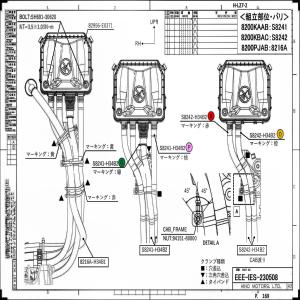PartNumber: (92, 159, 119, 167), (159, 144, 186, 152), (250, 131, 276, 139), (181, 113, 207, 120), (142, 246, 168, 253), (80, 258, 106, 265), (88, 22, 113, 29), (238, 246, 264, 252), (31, 14, 57, 20), (172, 236, 197, 241)
